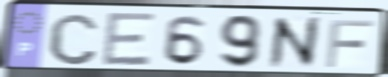6: (160, 15, 207, 68)
9: (217, 14, 263, 70)
C: (46, 11, 101, 68)
E: (101, 10, 159, 69)
F: (323, 17, 376, 69)
N: (267, 15, 321, 71)
